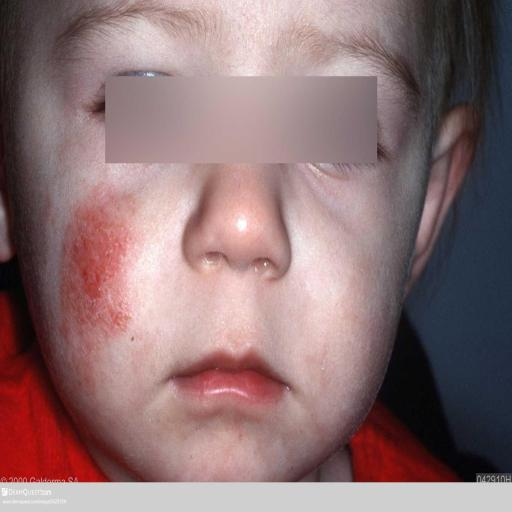Skin_Lesion: (60, 258, 114, 300), (68, 211, 124, 247), (70, 319, 108, 333)
